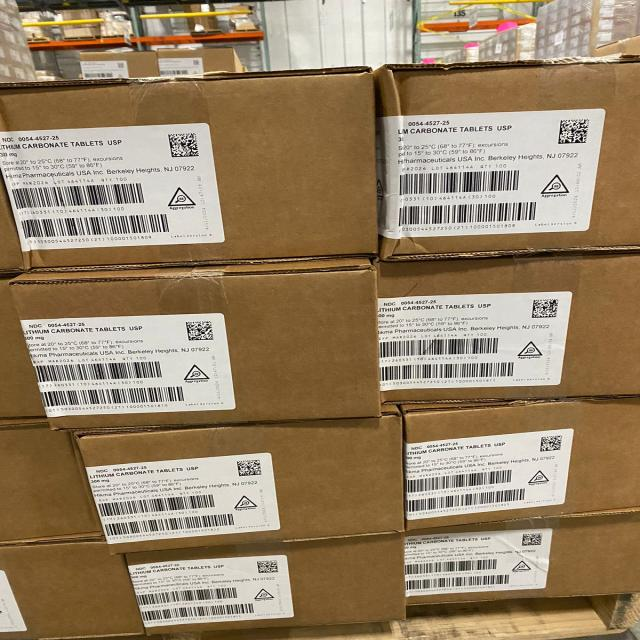BoxFace: (1, 65, 379, 272), (5, 258, 382, 431), (374, 52, 638, 261), (70, 405, 404, 554), (375, 252, 638, 404), (397, 396, 638, 531), (122, 530, 407, 636), (401, 507, 638, 608)
